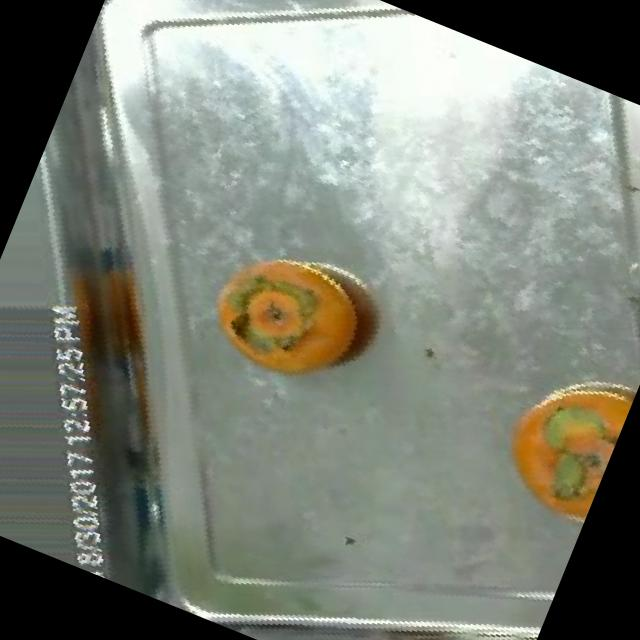Fruit: (171, 210, 426, 430), (463, 344, 638, 546)
